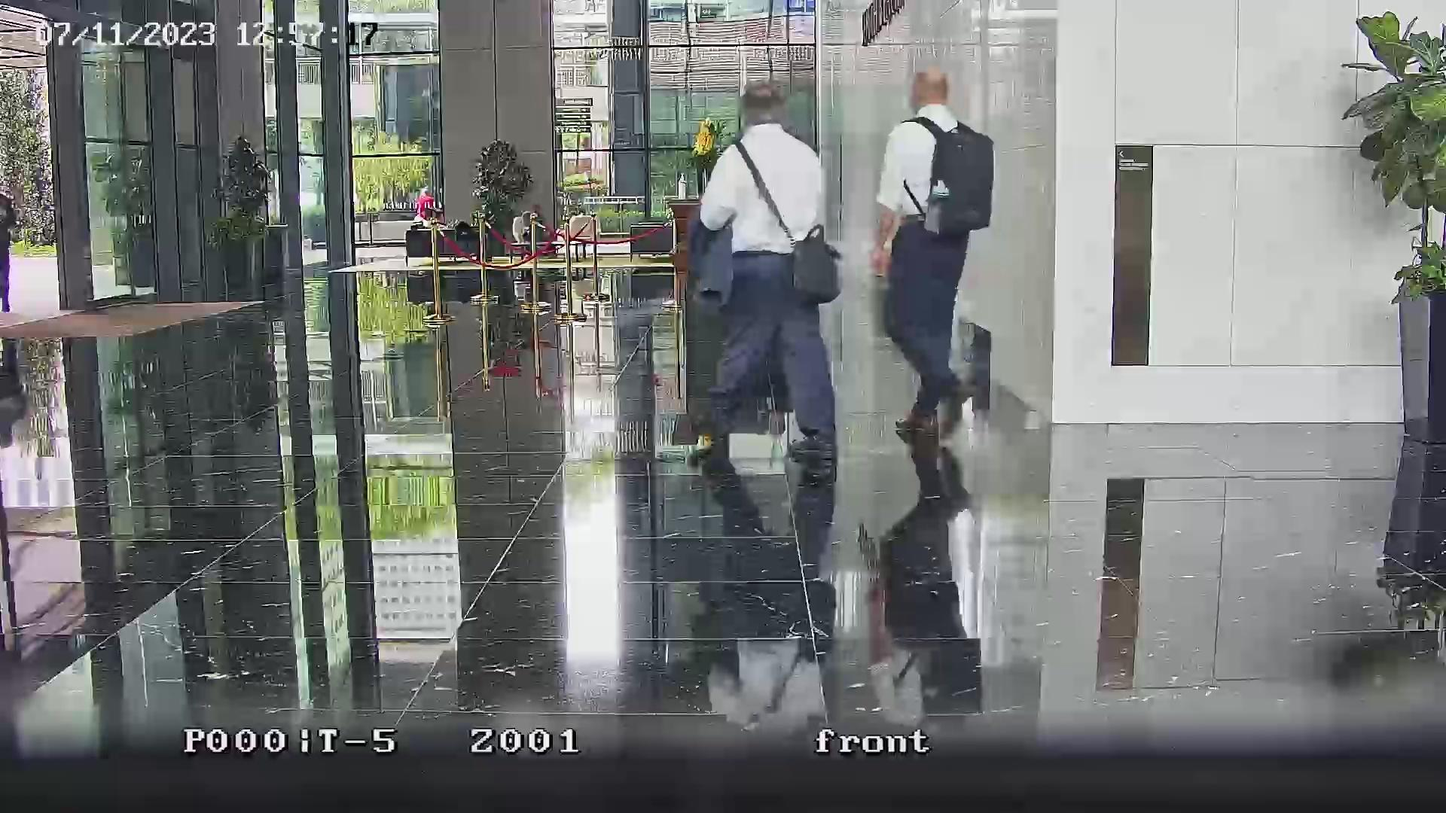person: (690, 78, 840, 473), (872, 64, 993, 434), (0, 188, 16, 313), (415, 188, 438, 220)
